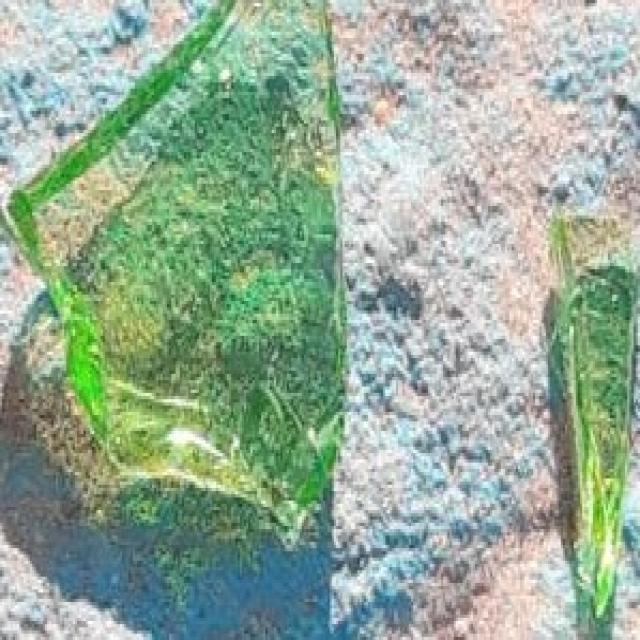Dry: (119, 6, 356, 387), (546, 208, 637, 628), (85, 353, 335, 502), (20, 120, 128, 368)
